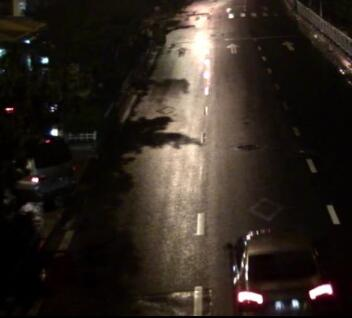car: (223, 227, 333, 316), (13, 135, 73, 191)
